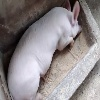heo: (40, 1, 87, 49)
